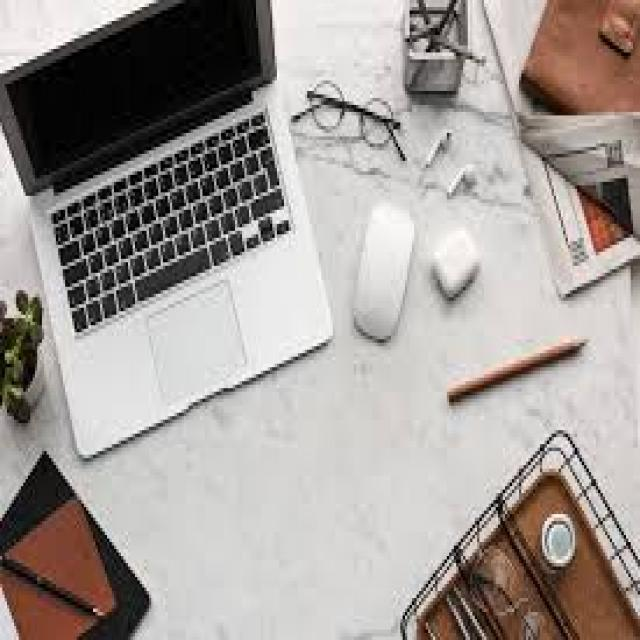others: (2, 4, 430, 462)
